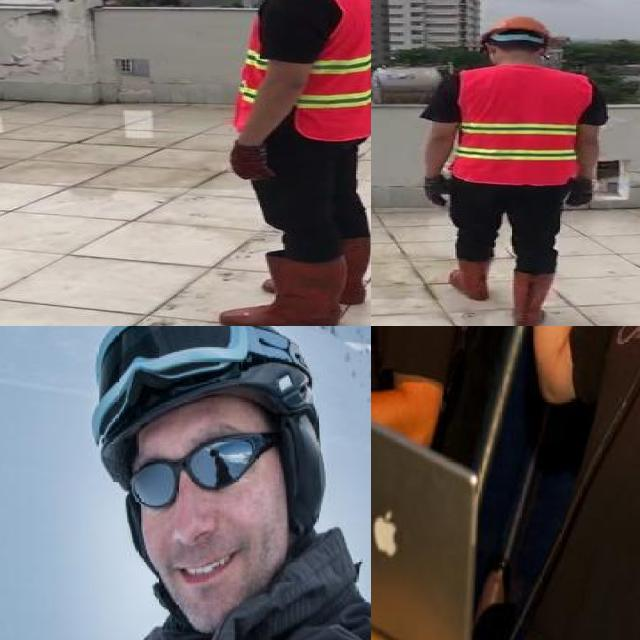boots: (219, 255, 343, 326), (331, 235, 371, 304), (510, 270, 554, 326), (448, 254, 494, 301)
face_nomask: (126, 442, 272, 592)
glasses: (84, 326, 255, 437), (114, 424, 296, 513)
hand_glove: (228, 143, 274, 180), (566, 179, 596, 208), (423, 173, 450, 205)
head_helmet: (67, 326, 326, 441), (482, 14, 554, 42)
person: (418, 14, 610, 326), (203, 0, 371, 326), (502, 326, 640, 640), (371, 326, 482, 640)
vest: (237, 0, 371, 141), (455, 65, 587, 183)
